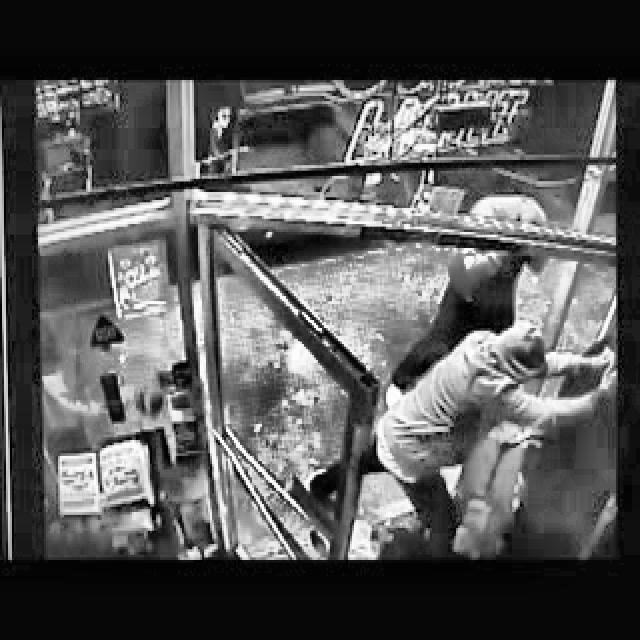burglary: (372, 252, 616, 558), (226, 81, 386, 199)
